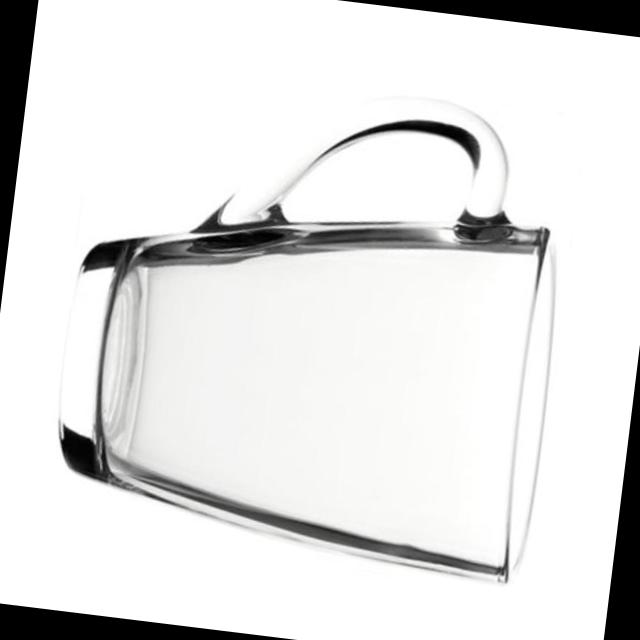Coffee Mug: (40, 57, 582, 590)
